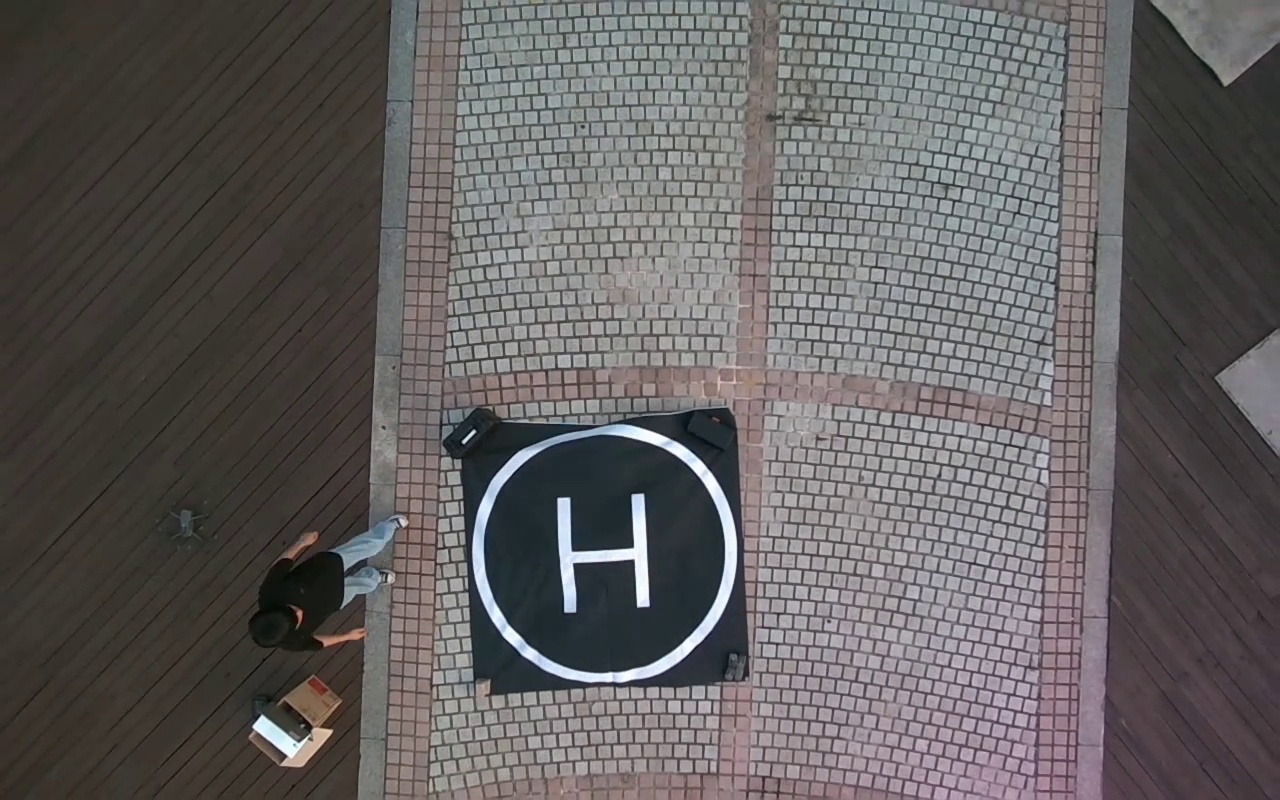H: (558, 493, 652, 609)
heliport: (473, 425, 737, 686)
